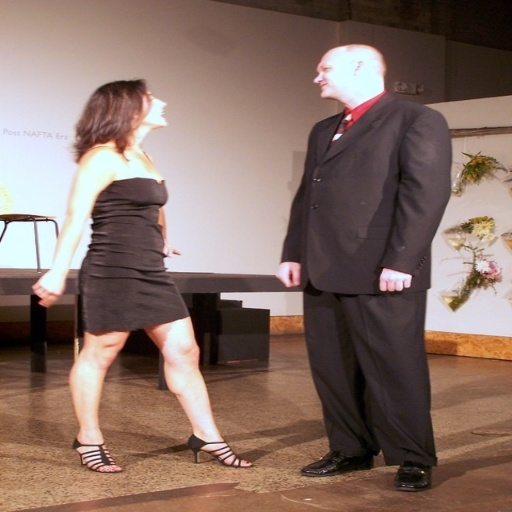hand: (18, 262, 66, 312), (374, 268, 412, 289), (275, 260, 302, 288), (163, 240, 178, 259)
